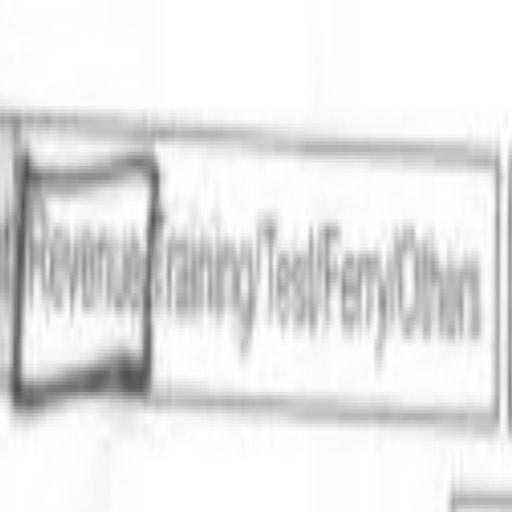check: (5, 66, 153, 512)
